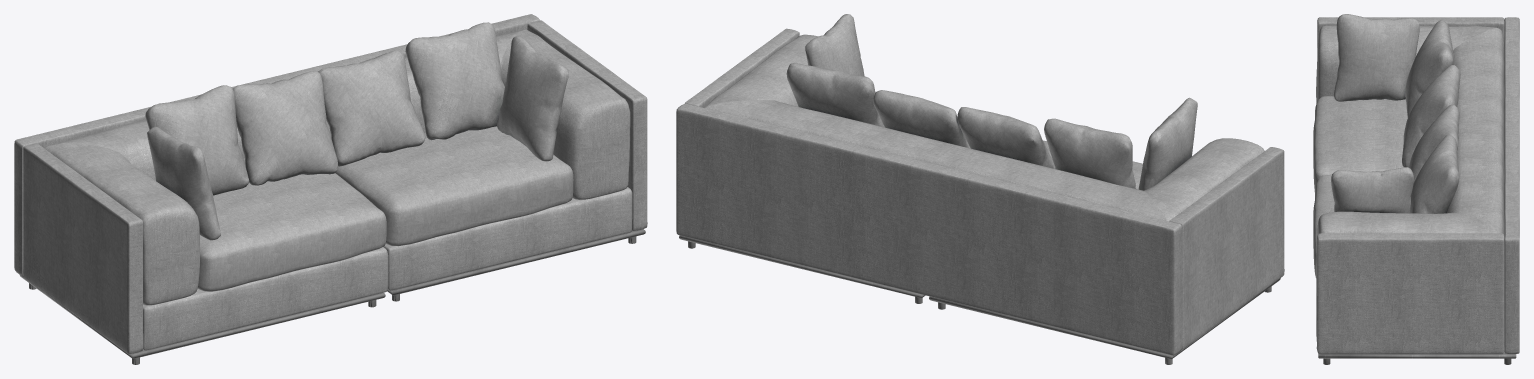
The model's file is SOBA_2.glb.
3 renders of one model, left to right at view 1: azimuth 30°, elevation 25°; view 2: azimuth 150°, elevation 25°; view 3: azimuth 270°, elevation 25°, orthographic. The views are drawn at different scales.
Parts seen in each view (by area): view 1: defaultMaterial.005; view 2: defaultMaterial.005; view 3: defaultMaterial.005.
Boxes of the visible parts, <box> form: defaultMaterial.005: <box>14,14,647,364</box>; defaultMaterial.005: <box>676,14,1284,364</box>; defaultMaterial.005: <box>1313,14,1519,364</box>.
Bounding box in the file's own units: 2 × 0.7004 × 0.7837.
6 materials, 6 textured.
